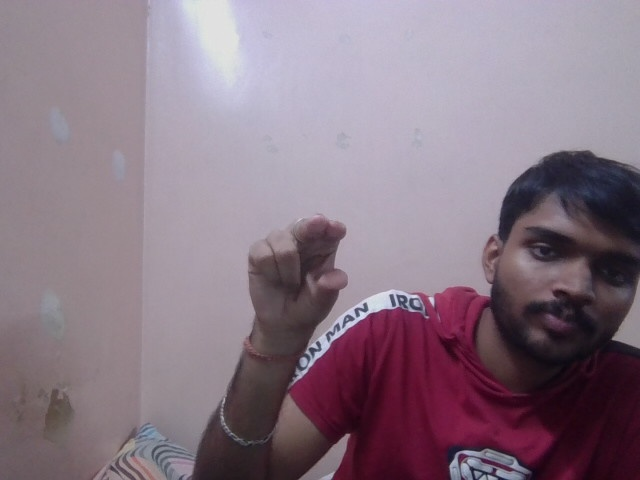No: (241, 210, 347, 335)
